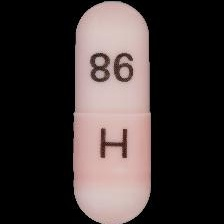58118-0545: (0, 0, 224, 224)
